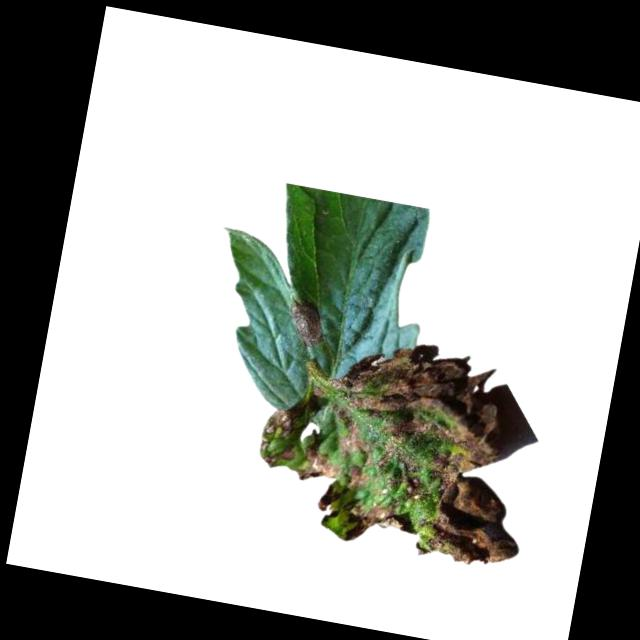Early_blight: (245, 328, 549, 574), (283, 294, 329, 346)
